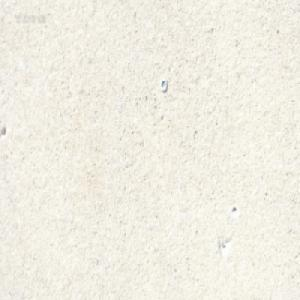Washer: (159, 78, 167, 92)
